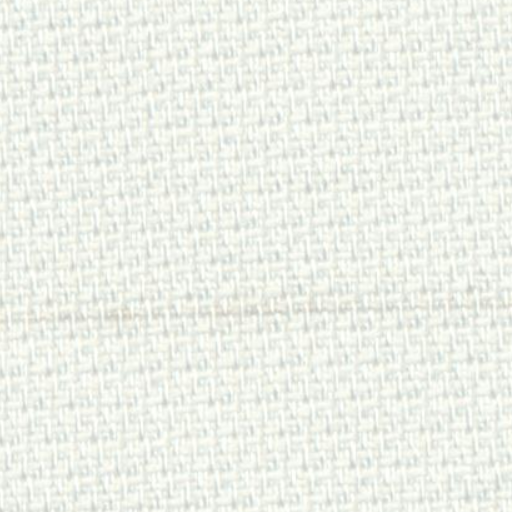WuZi: (34, 298, 462, 326)
